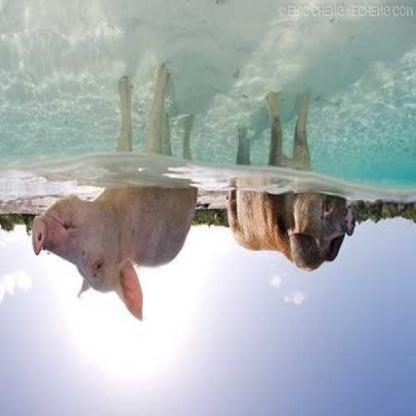boar: (32, 72, 211, 323), (223, 101, 369, 293)
